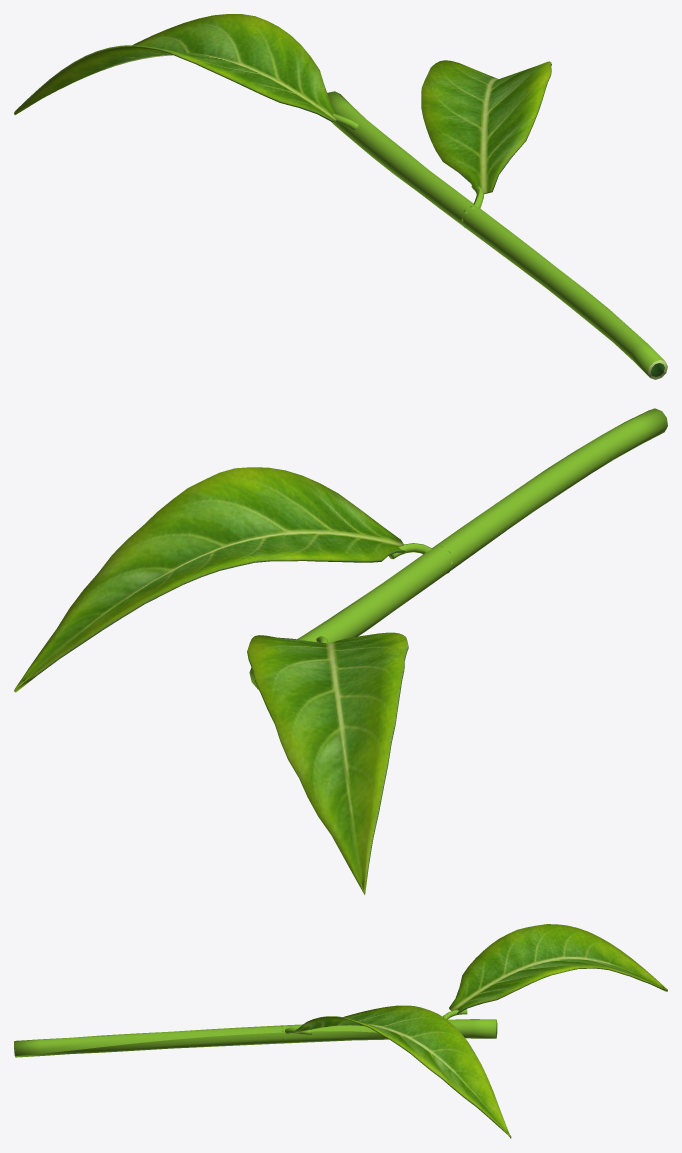
The model's file is NP_WaterSpinach_LooseSprig.fbx.
3 views of the same model, one above another, from view 1: azimuth 30°, elevation 25°; view 2: azimuth 150°, elevation 25°; view 3: azimuth 270°, elevation 25° (orthographic). The views are drawn at different scales.
Parts seen in each view (by area): view 1: NP_WaterSpinach_LooseSprig.001; view 2: NP_WaterSpinach_LooseSprig.001; view 3: NP_WaterSpinach_LooseSprig.001.
Boxes of the visible parts, <box> form: NP_WaterSpinach_LooseSprig.001: <box>14,14,667,379</box>; NP_WaterSpinach_LooseSprig.001: <box>14,408,667,894</box>; NP_WaterSpinach_LooseSprig.001: <box>14,924,667,1138</box>.
Bounding box in the file's own units: 37.87 × 11.45 × 73.33.
